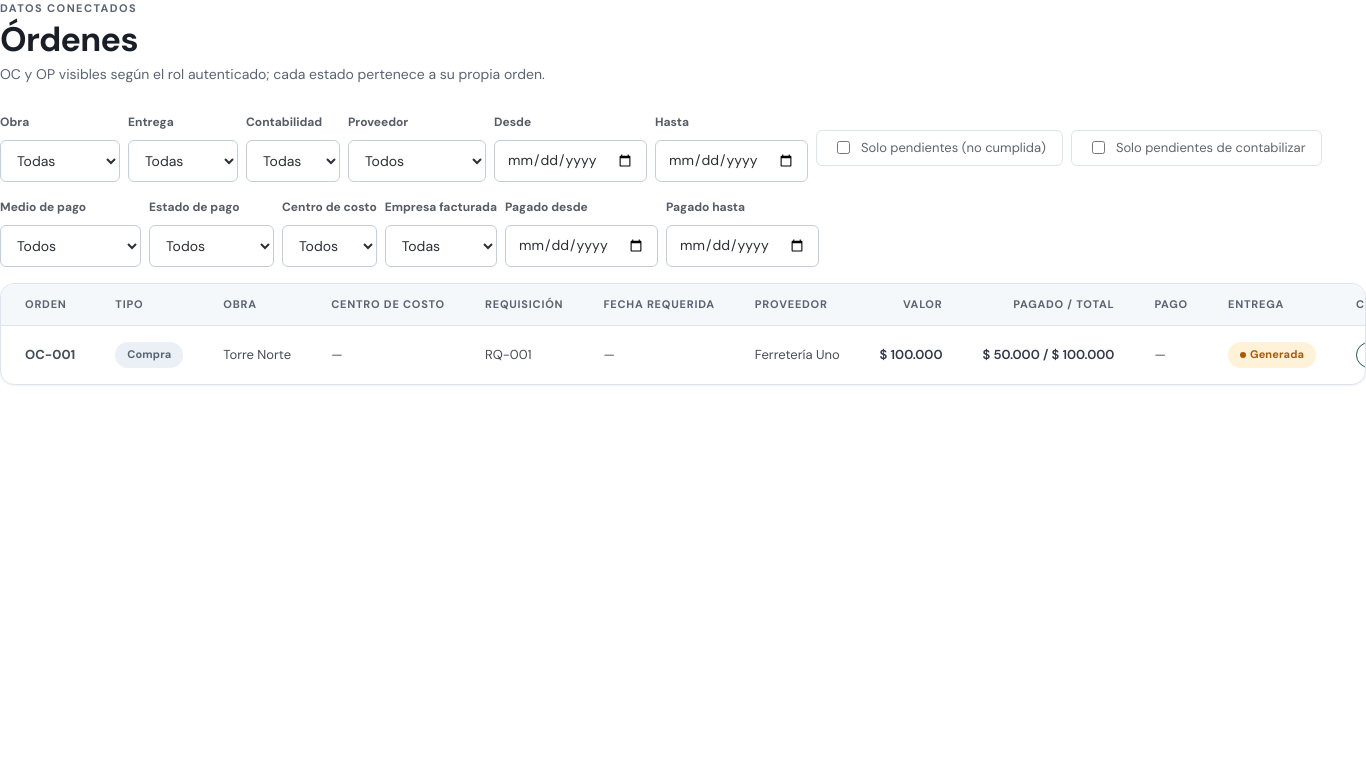
Test: panel de Pagos — columna 'Pagado / Total' y diálogo de la ficha › una orden ya pagada no ofrece el registro de pagos, ni siquiera a contabilidad
The image size is (1366, 768).
What coordinates should you click on to do the following:
click the text "OC-001"
I would click on:
 (50, 354)
Its box is [25, 346, 75, 363].
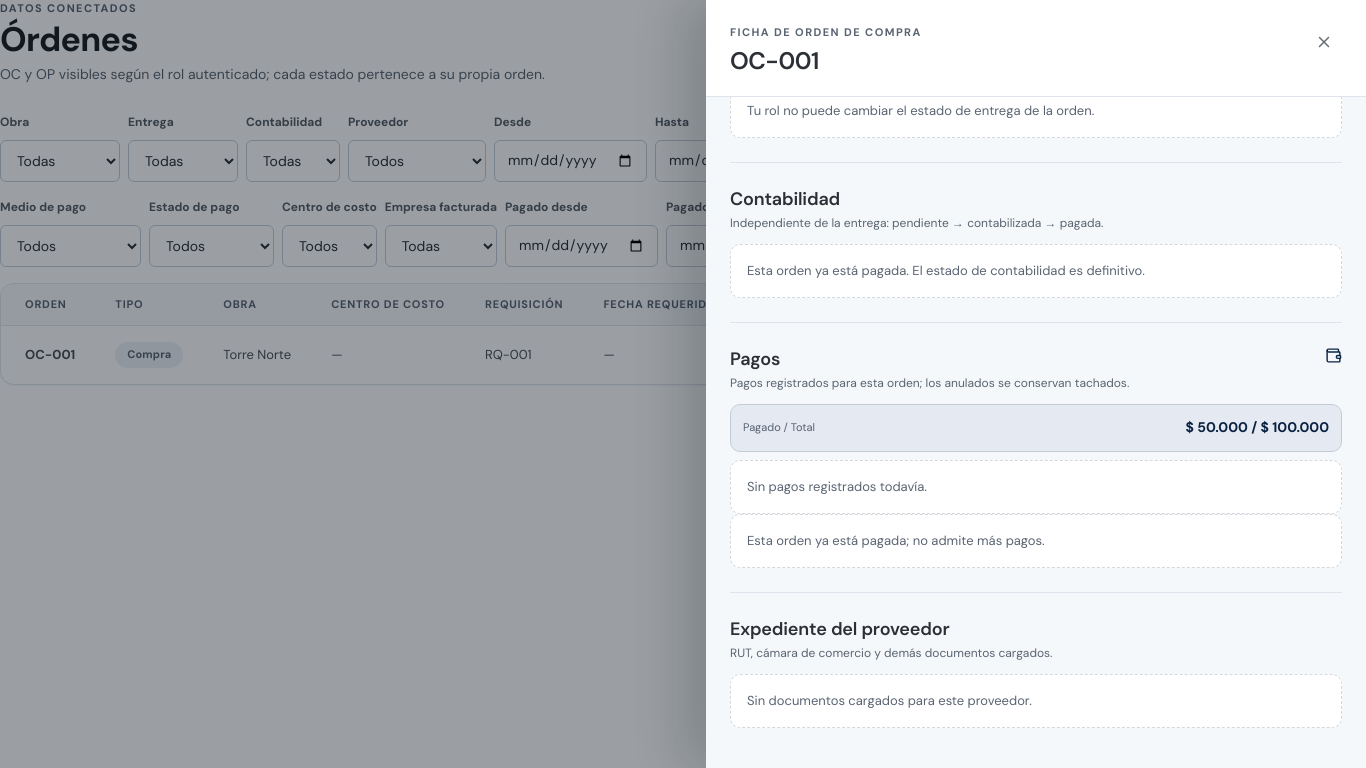
Check: the text "Esta orden ya está pagada; no admite más pagos." is shown, box [730, 514, 1342, 568]
